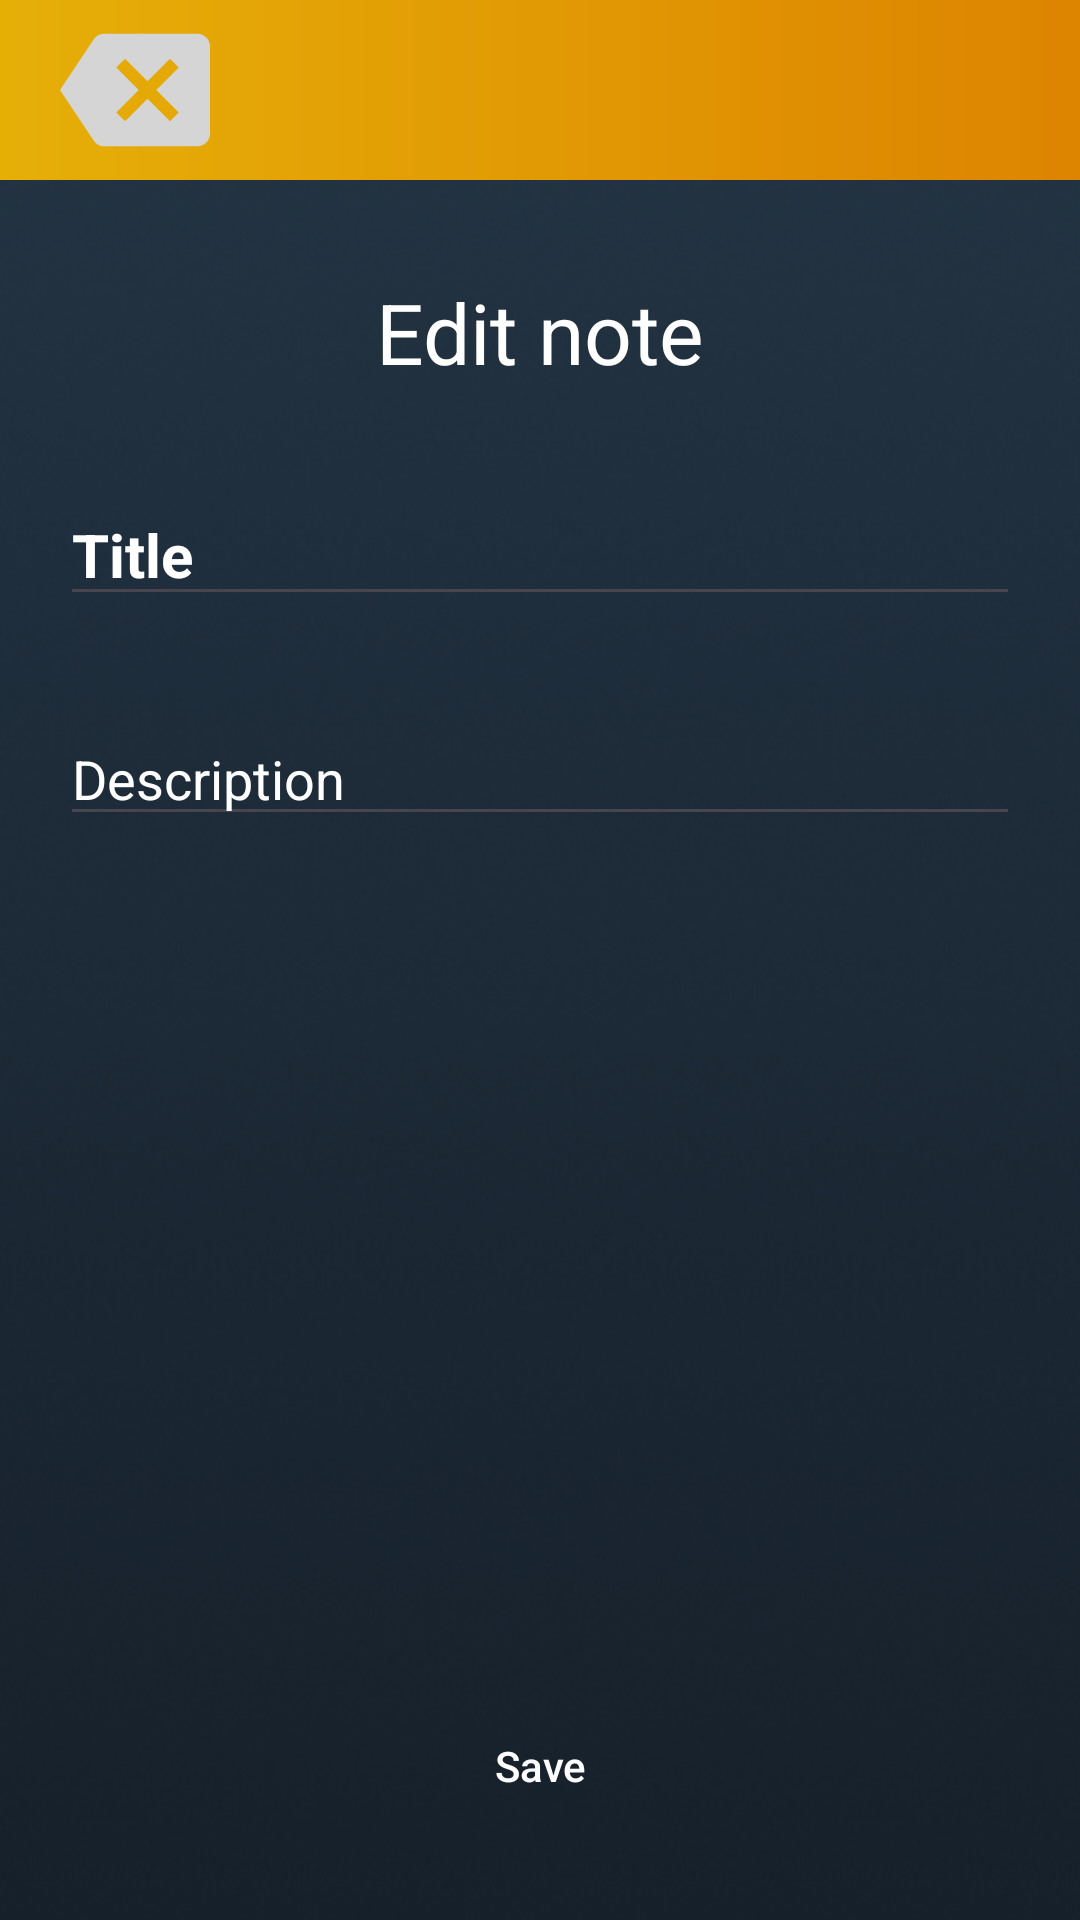

Where to tap for icons on this 1080×1920 app screen, as (x,y):
backspace: (135,90)
